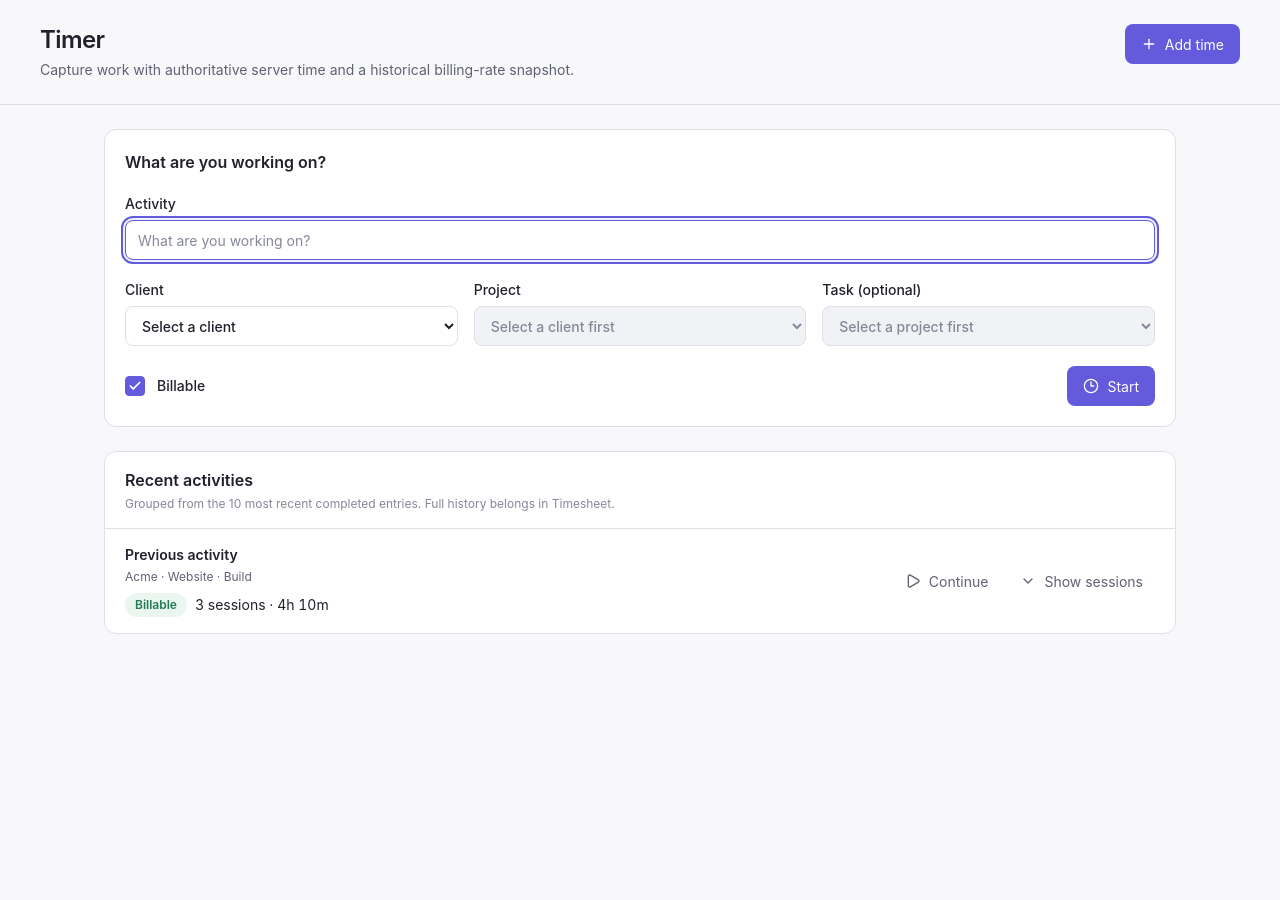
Test case: Recent activity grouping › regroups an individually edited session from refreshed Recent data
This screenshot has width=1280, height=900.
Click the button with aria-label "Show sessions for Previous activity" at (1082, 581), box [1008,563,1155,599]
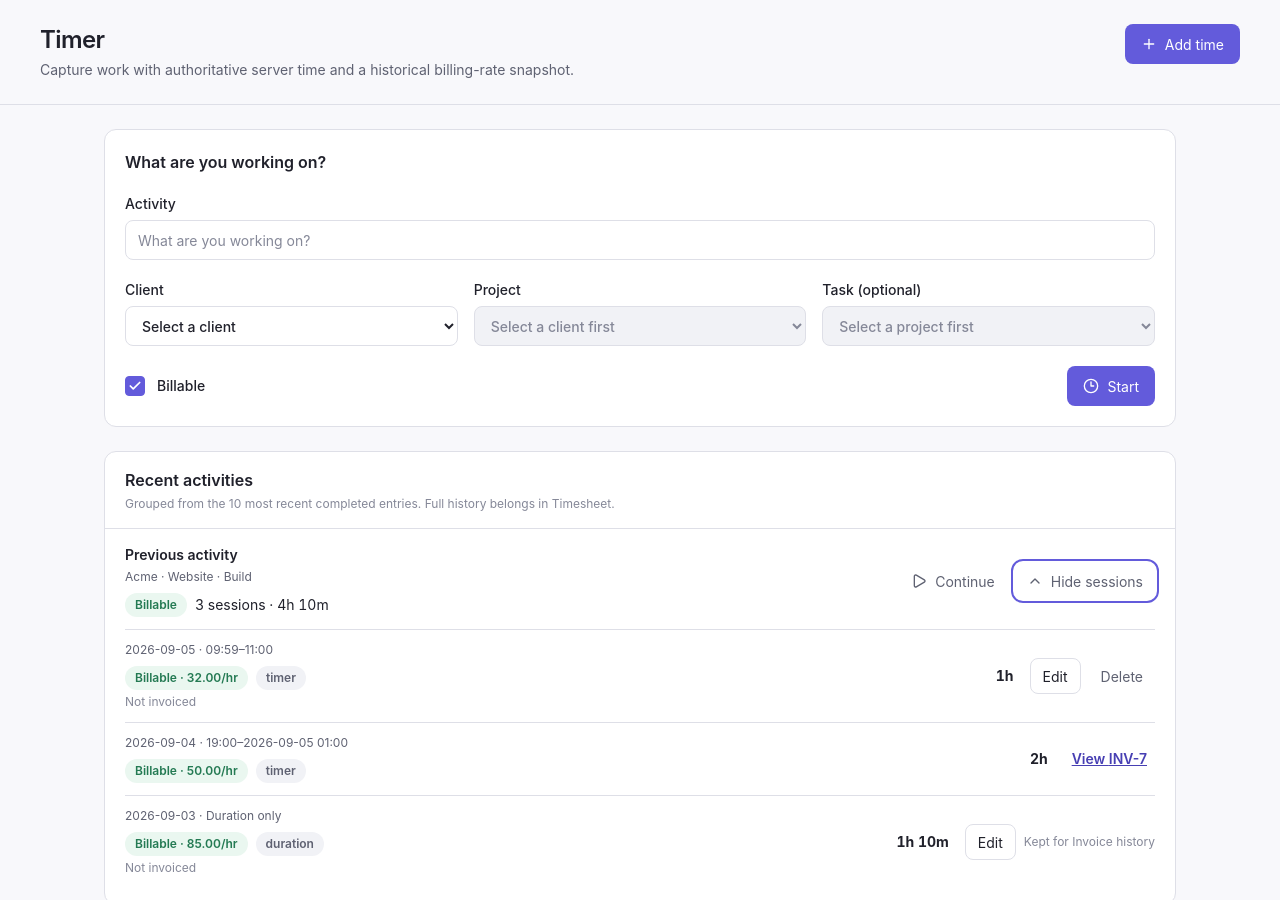
Click the button "Edit" in the row of "Billable · 32.00/hr" at (1055, 676), box [1030,658,1081,694]
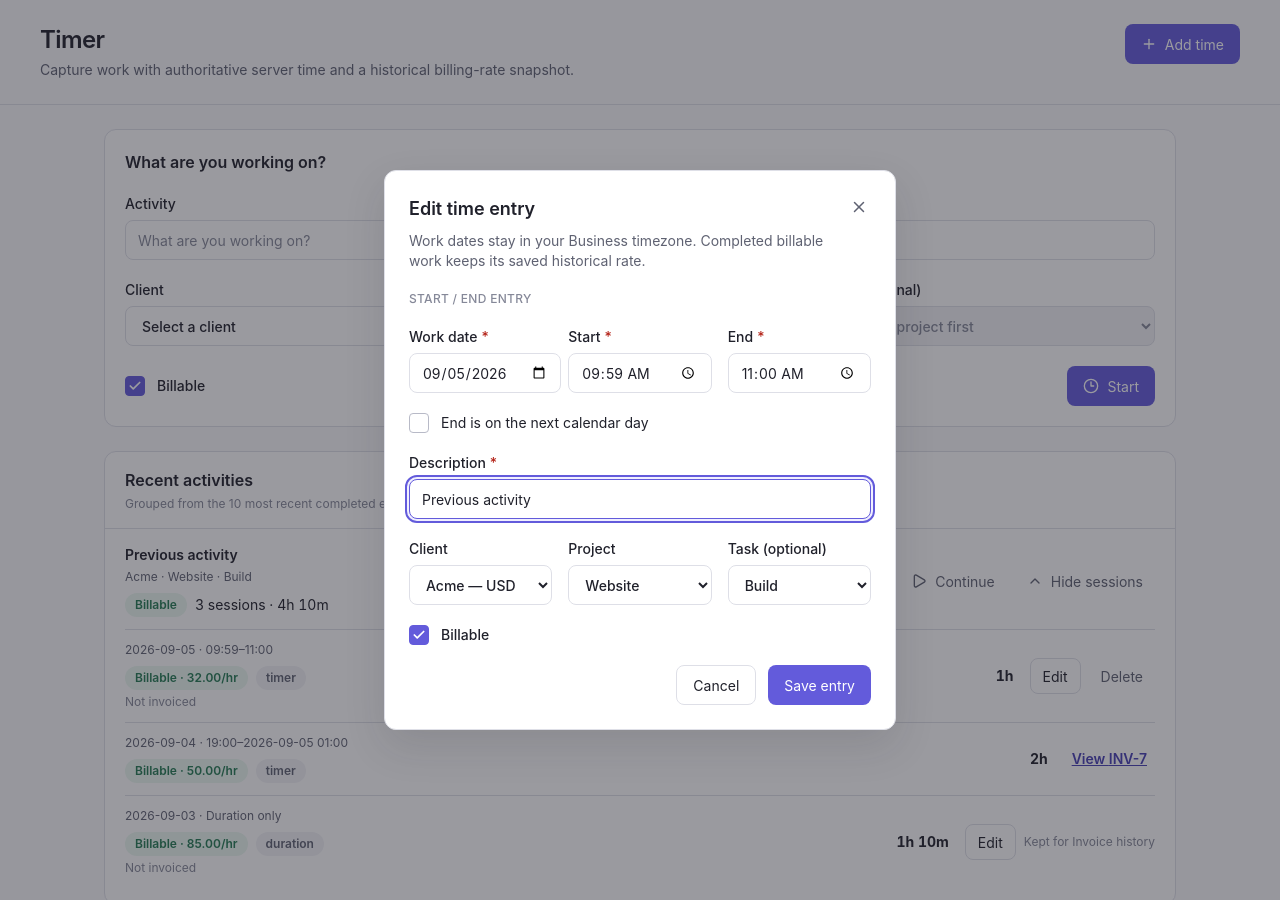
Replace the text in the field labelled "Description*" with "Different work" at (640, 499), box [409,479,871,519]
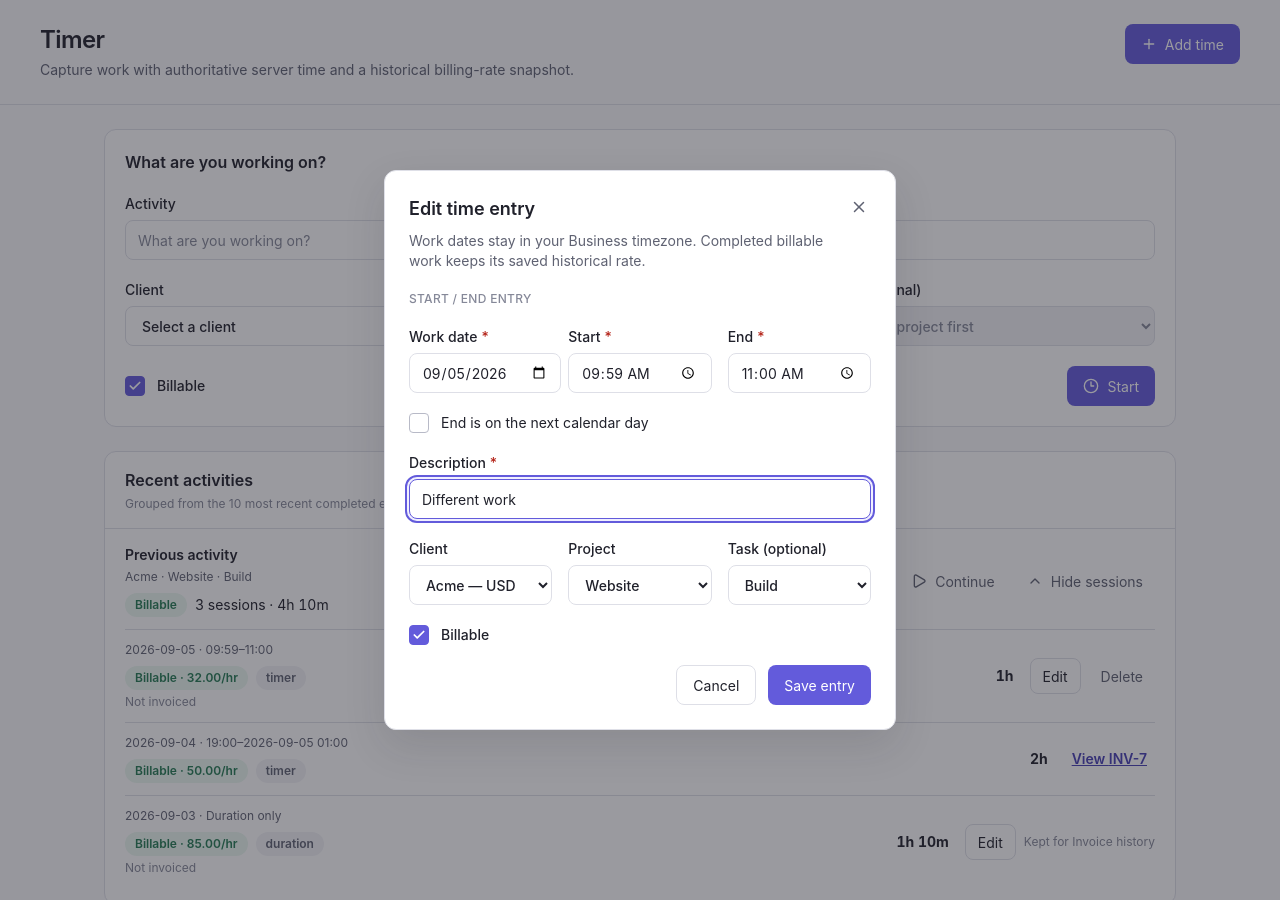
Click the button "Save entry" at (820, 685), box [768,665,871,705]
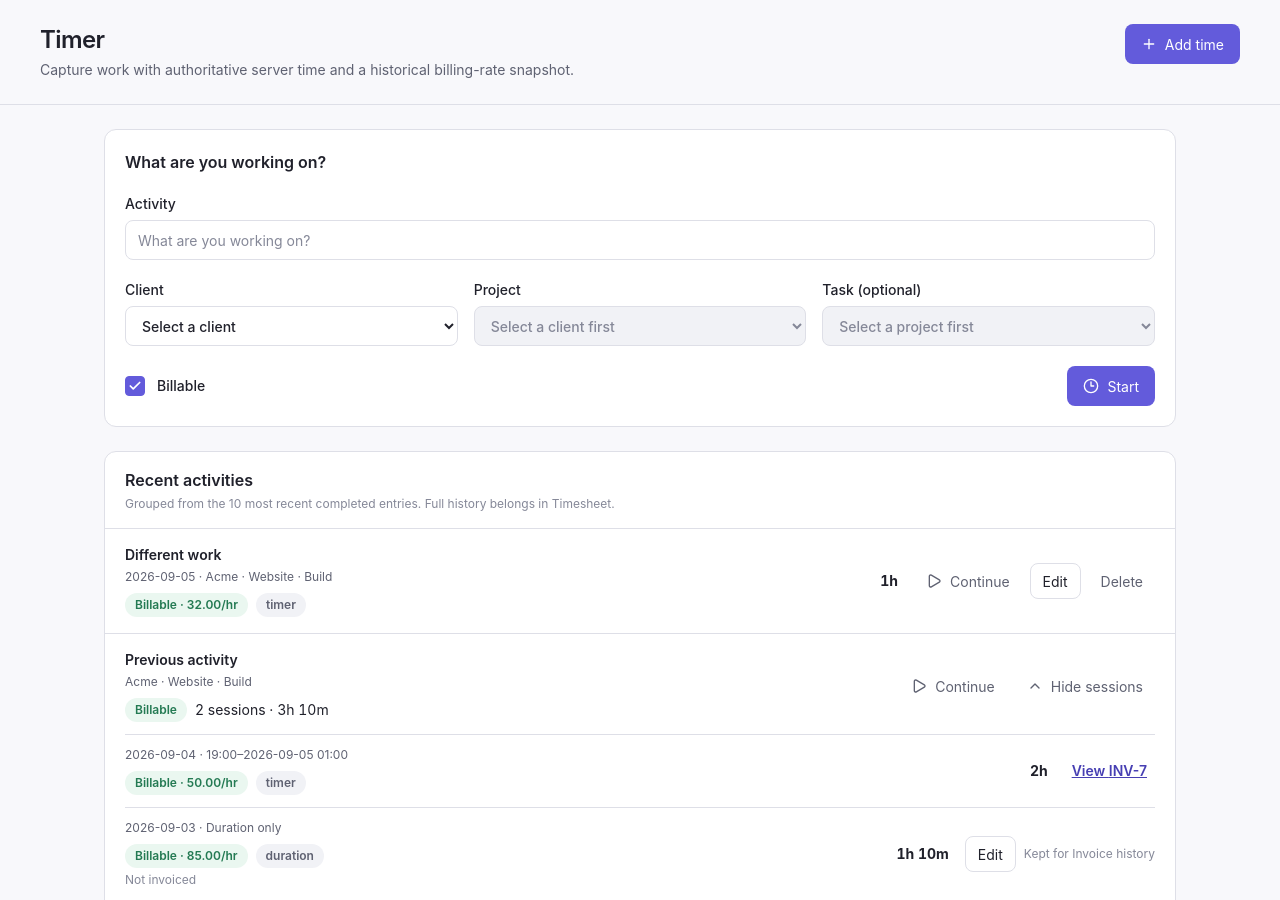
Now the button "Edit" in the row of "2026-09-05 · Acme · Website · Build" is shown, box [1030,563,1081,599]
Now the heading "Different work" is shown, box [125,546,221,563]
Now the text "2 sessions · 3h 10m" is shown, box [195,700,329,720]
